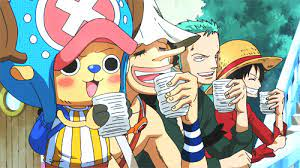chopper: (1, 1, 138, 113)
luffy: (243, 40, 284, 99)
